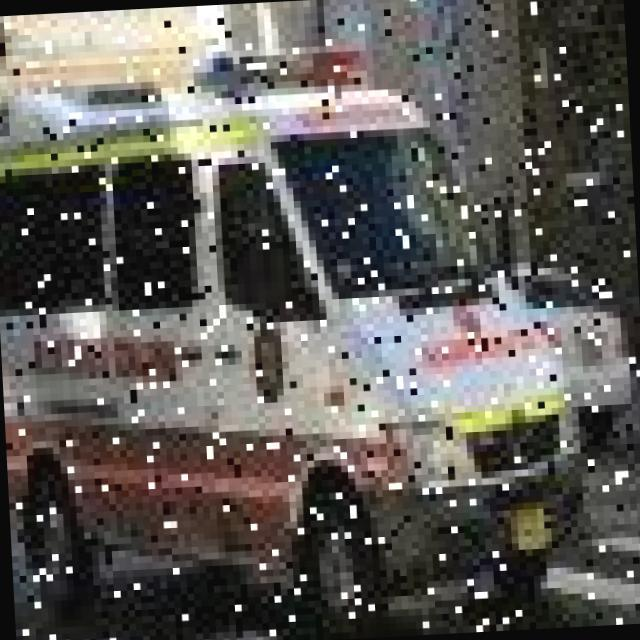emergency-vehicle: (0, 26, 596, 640)
